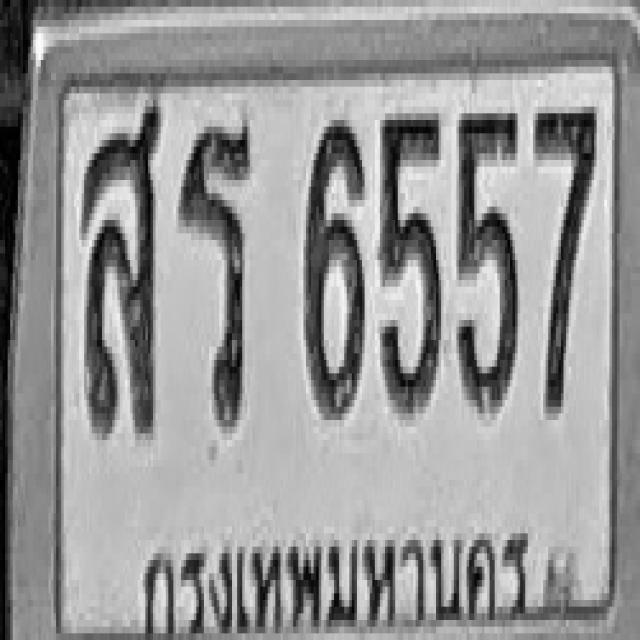44RorRuea: (180, 117, 251, 423)
49SorSuea: (81, 94, 160, 434)
5: (457, 103, 518, 410), (380, 107, 441, 413)
6: (304, 110, 364, 417)
7: (533, 97, 597, 410)
Bangkok: (135, 515, 540, 640)
